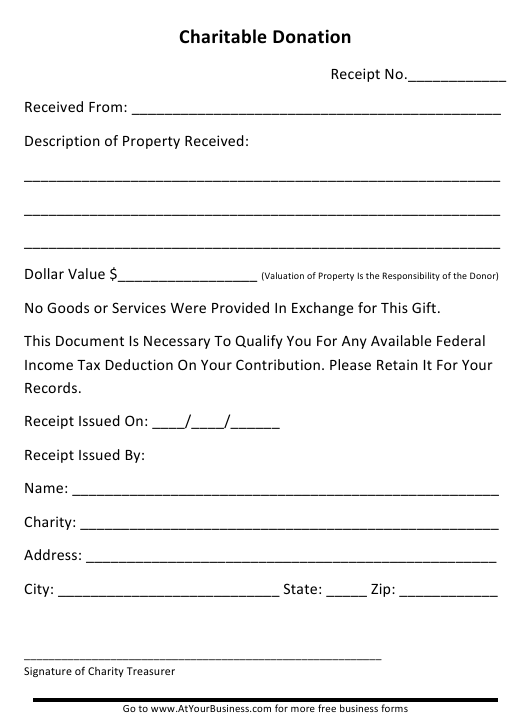textline: (19, 220, 504, 256), (20, 153, 502, 187), (19, 190, 502, 221), (20, 623, 385, 664), (76, 507, 501, 535), (69, 474, 502, 501), (83, 541, 499, 567), (130, 92, 505, 120), (55, 571, 281, 601), (148, 404, 281, 432), (115, 262, 259, 286), (396, 570, 500, 601), (405, 60, 509, 85), (323, 570, 369, 601), (229, 408, 281, 431), (149, 408, 183, 432), (190, 410, 225, 432)
